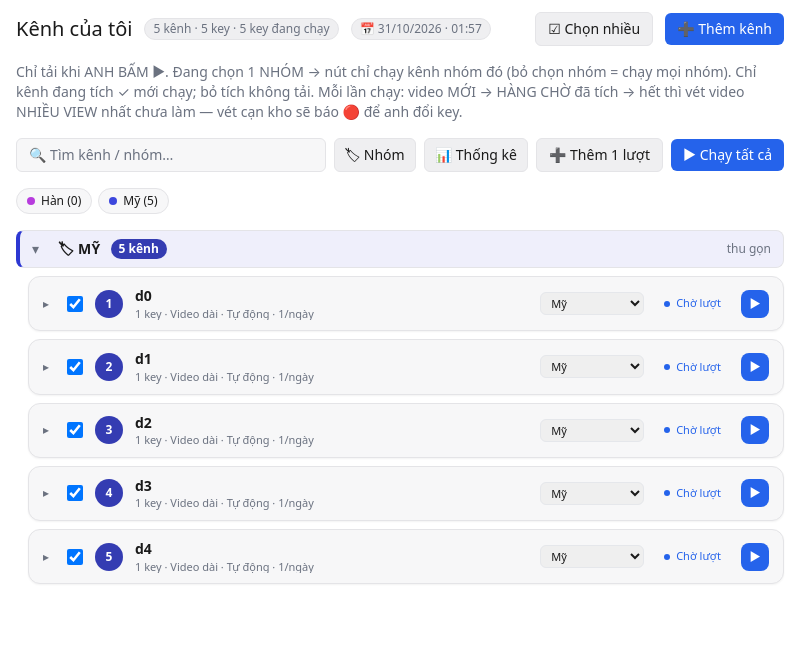
Test: Nút ➕ Thêm 1 lượt (trang Theo dõi) › đang chạy thì nút ▶ Chạy nhóm bị KHOÁ (khỏi chạy chồng 2 việc)
Click the button titled "TẢI THÊM 1 VIDEO cho MỖI kênh" at (599, 155), box [536, 138, 663, 172]
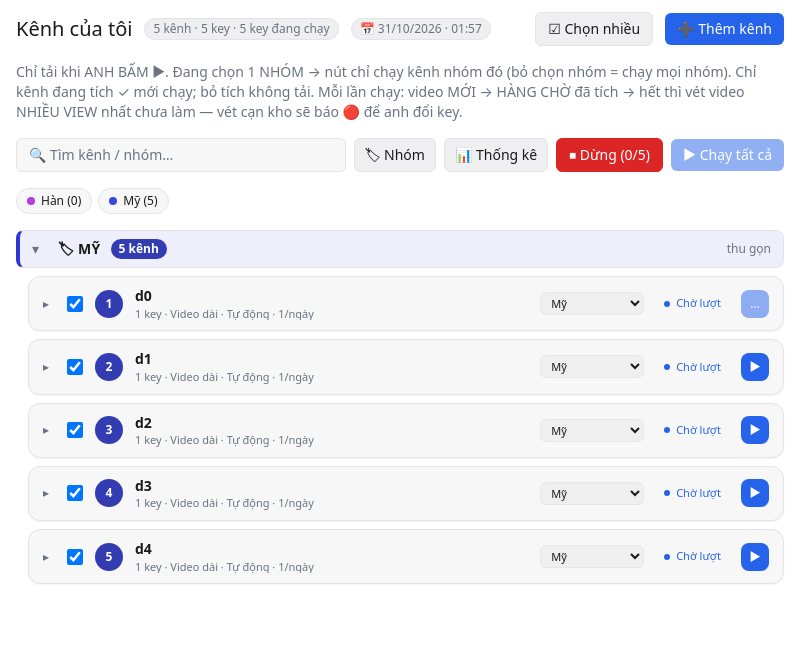
Expected: the button titled "TẢI THÊM 1 VIDEO cho MỖI kênh" shows "Dừng"
Expected: the button "▶ Chạy tất cả" is disabled, [671, 139, 784, 171]
Click the button titled "TẢI THÊM 1 VIDEO cho MỖI kênh" at (610, 155), box [556, 138, 663, 172]
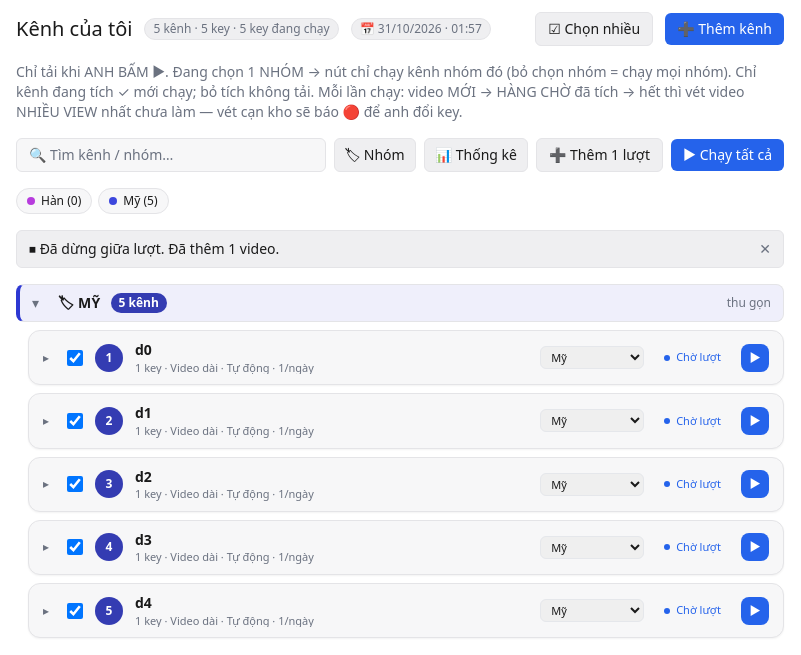
Expected: the button titled "TẢI THÊM 1 VIDEO cho MỖI kênh" shows "Thêm 1 lượt", [536, 138, 663, 172]
